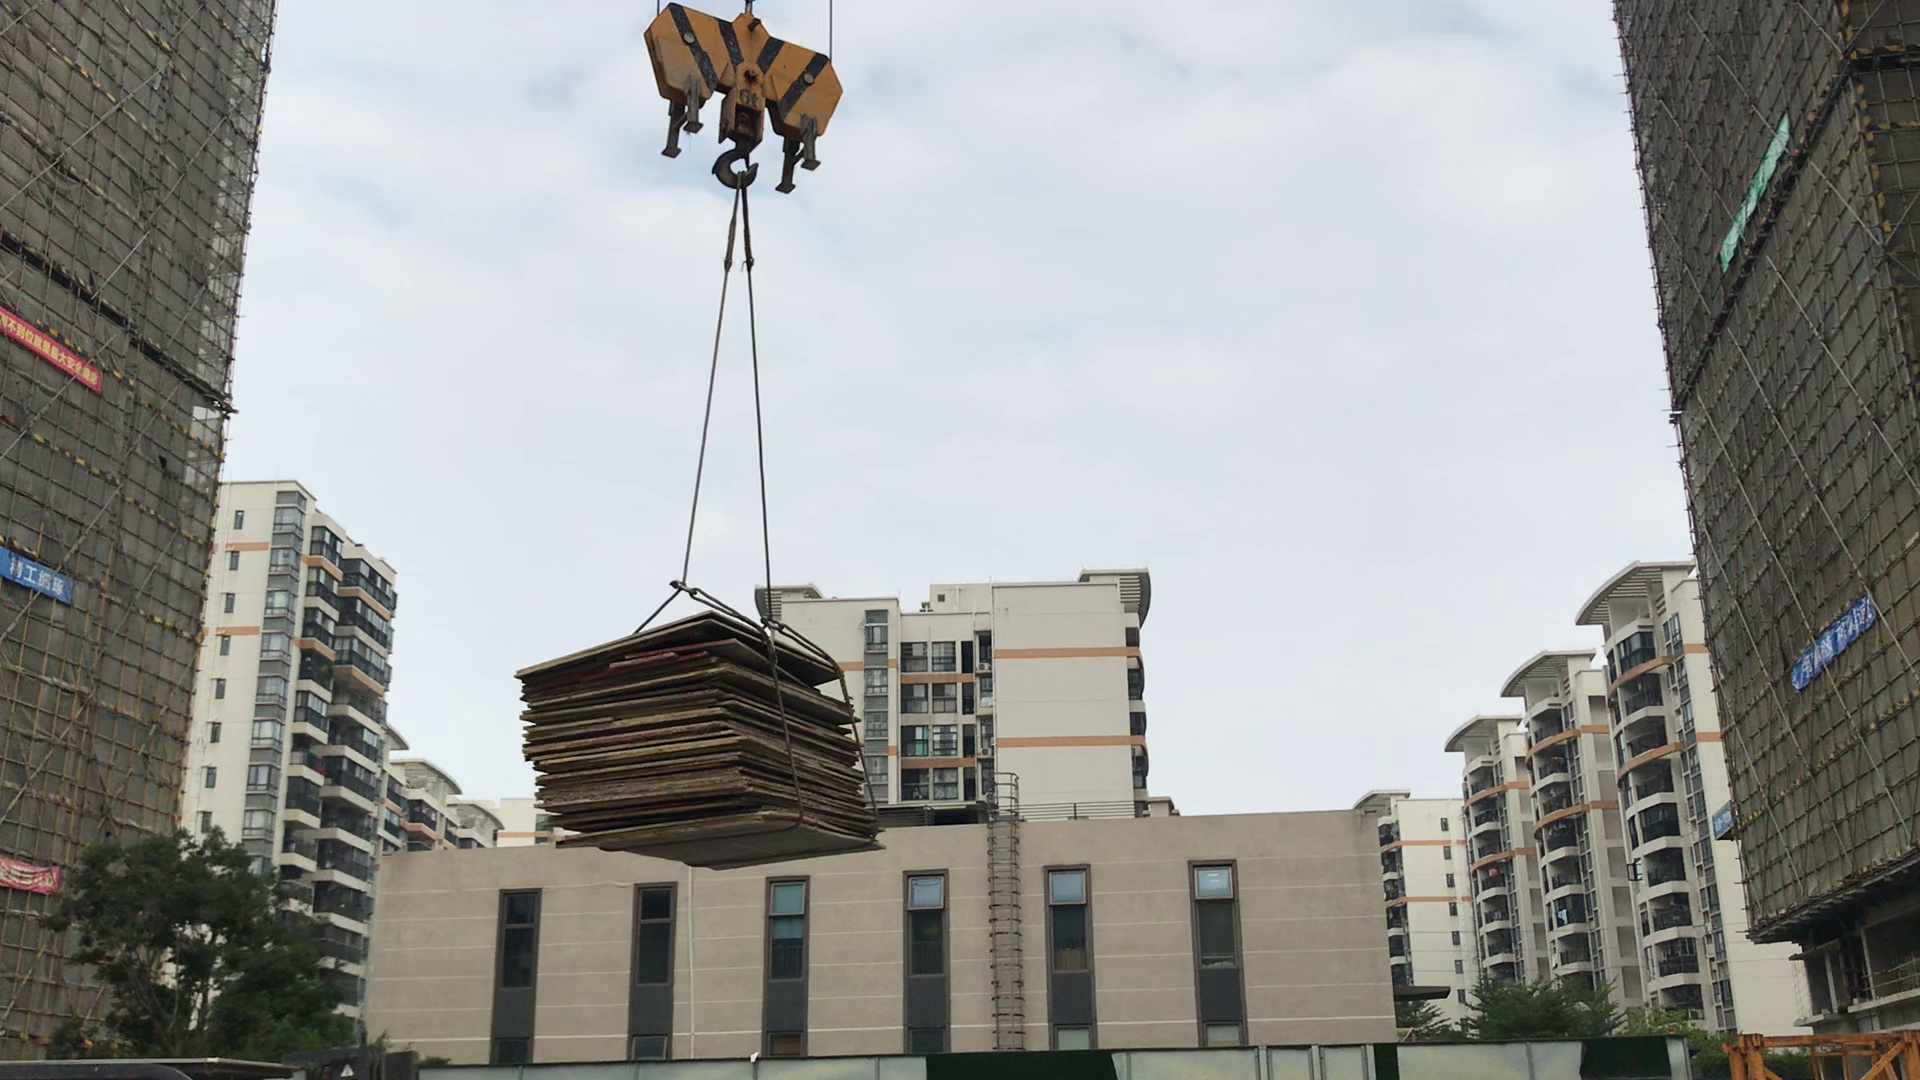board: (469, 588, 920, 866)
hook: (618, 1, 865, 203)
slogan: (1, 284, 108, 382)
